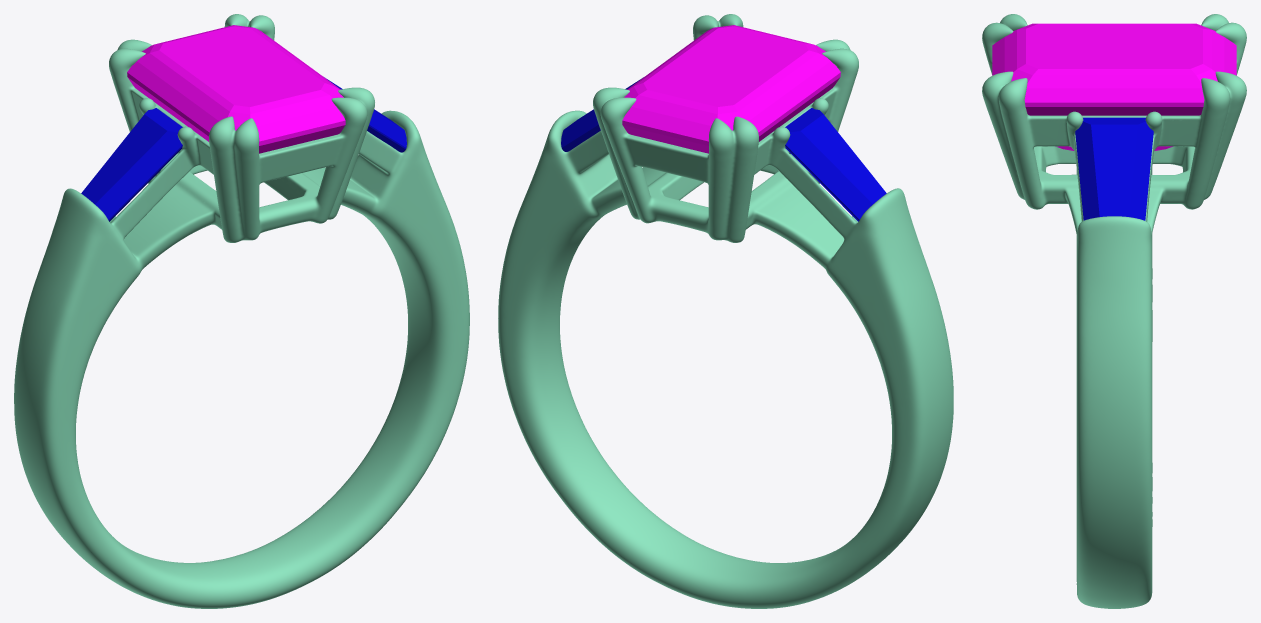
The model's file is ALR-RN-CR-135.glb.
3 renders of one model, left to right at view 1: azimuth 30°, elevation 25°; view 2: azimuth 150°, elevation 25°; view 3: azimuth 270°, elevation 25°, orthographic.
Parts seen in each view (by area): view 1: Metal02, CS_Diamond_Emerald, Diamond_Baguette_side.001, Diamond_Baguette_side; view 2: Metal02, CS_Diamond_Emerald, Diamond_Baguette_side.001, Diamond_Baguette_side; view 3: Metal02, CS_Diamond_Emerald, Diamond_Baguette_side.
Part boxes in pixels (x1,y1,x2,y2): Metal02: [14, 14, 469, 608]; CS_Diamond_Emerald: [127, 25, 345, 153]; Diamond_Baguette_side.001: [81, 108, 182, 221]; Diamond_Baguette_side: [324, 77, 406, 152]; Metal02: [498, 14, 953, 608]; CS_Diamond_Emerald: [622, 25, 840, 153]; Diamond_Baguette_side.001: [785, 108, 886, 221]; Diamond_Baguette_side: [561, 77, 643, 151]; Metal02: [982, 14, 1246, 608]; CS_Diamond_Emerald: [992, 23, 1236, 150]; Diamond_Baguette_side: [1075, 117, 1153, 220].
Size of the model in its own units: 19.96 by 23.39 by 10.4.
